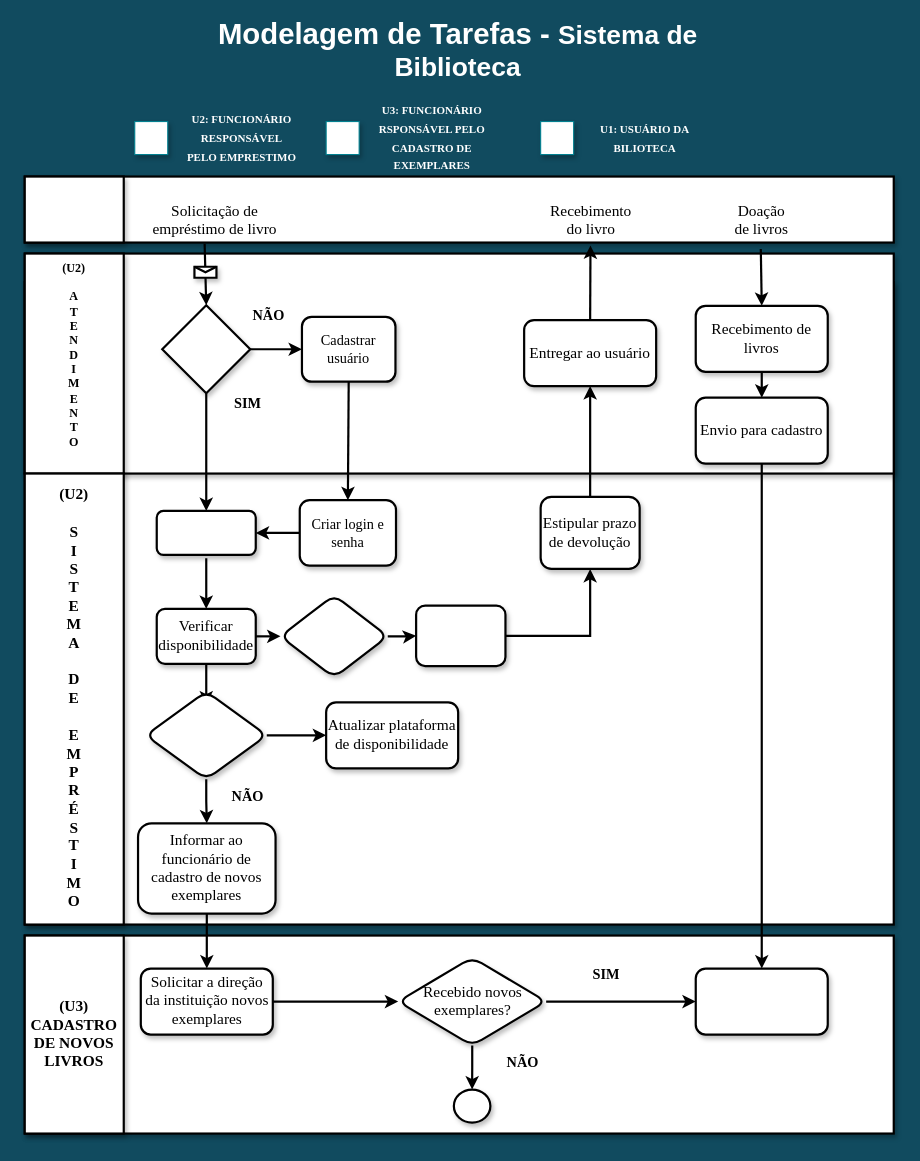
The diagram is 920 pixels wide and 1161 high, and some of its shapes have lost their labels. Each missing label, with the centre of its shape:
"(U1) USUÁRIO DA BILIOTECA" belongs at (75,210).
"Cadastrar empréstimo" belongs at (461,637).
"Cadastro de novos exemplares recebidos" belongs at (762,1003).
"Livro disponível para empréstimo?" belongs at (334,637).
"Possui cadastro?" belongs at (206,350).
"Possui livros suficientes?" belongs at (207,736).
"Registrar solicitação" belongs at (207,534).
